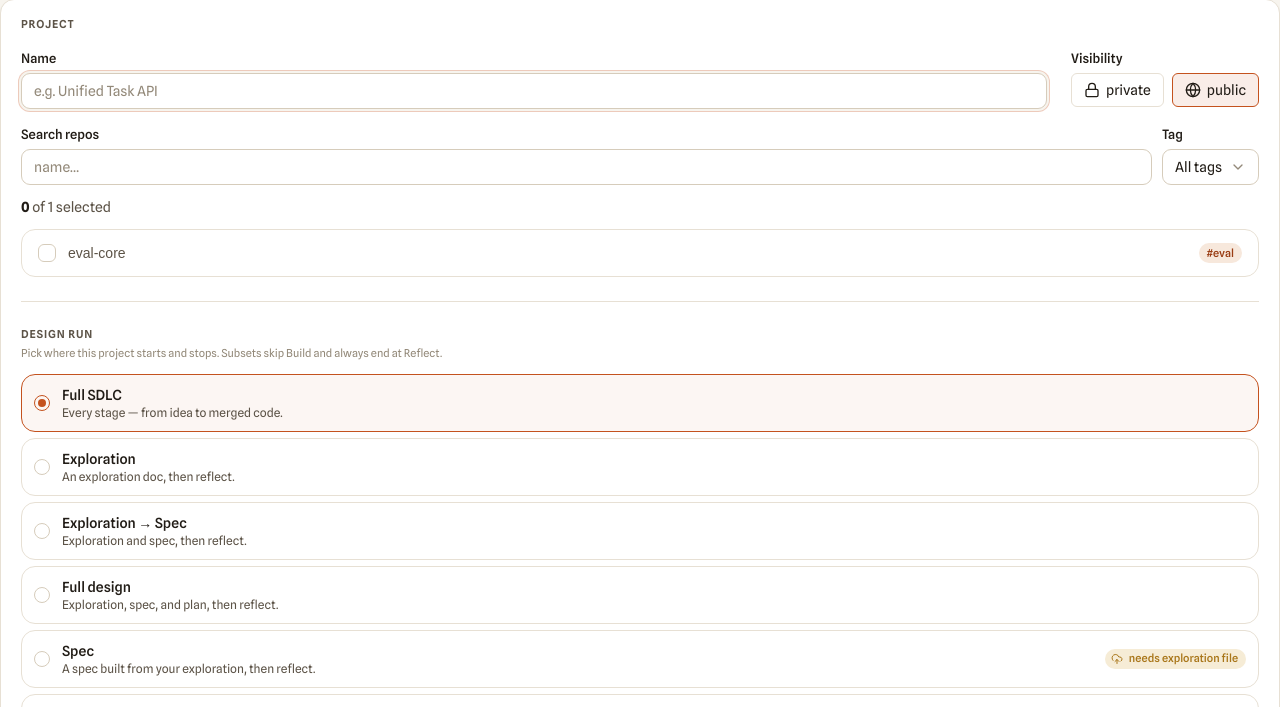
Test: NewProjectForm subset creation › gates submit until the required upstream file is attached
The width and height of the screenshot is (1280, 707).
Click the radio button labelled "Spec": (78, 651) [21,630,1259,688]
(page scrolled)
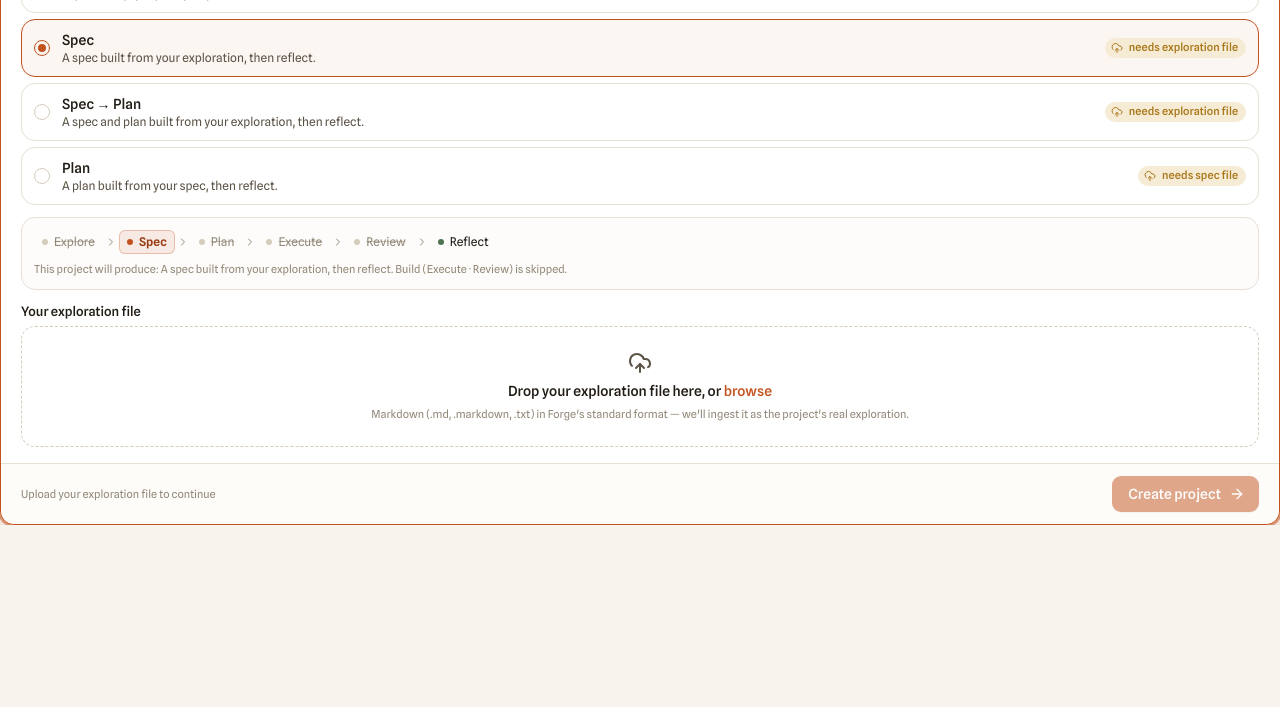
Now the button "Create project" is disabled, box [1112,476,1259,512]
Now the text "Upload your exploration file to continue" is shown, box [21,487,216,502]
